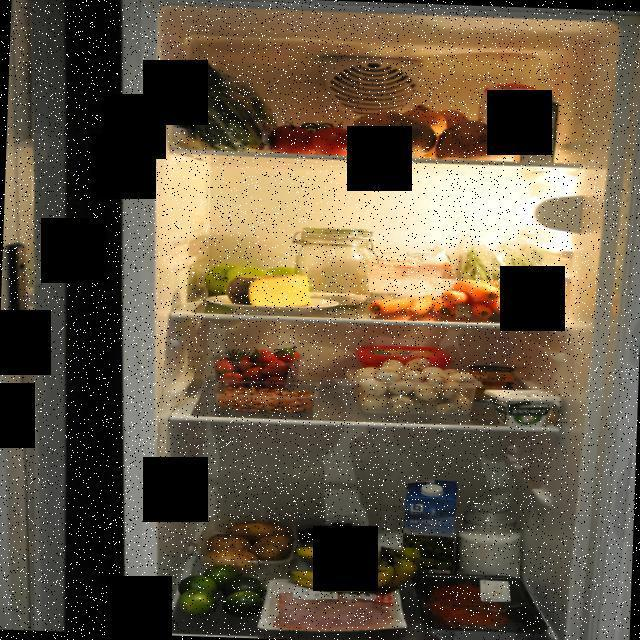apple: (204, 263, 308, 301)
banana: (292, 532, 417, 595)
beef: (422, 578, 524, 629)
blueberries: (298, 514, 368, 554)
butter: (349, 341, 452, 375)
carrot: (436, 276, 522, 324), (368, 292, 438, 319)
cheese: (226, 268, 318, 310)
corn: (466, 363, 516, 402)
flour: (288, 223, 377, 310), (367, 242, 466, 309)
goat_cheese: (483, 387, 563, 428)
green_beans: (442, 230, 556, 322)
ham: (271, 582, 399, 632)
heavy_cream: (514, 91, 562, 165)
lime: (176, 564, 266, 620)
milk: (398, 478, 462, 588)
mushrooms: (346, 354, 484, 418)
onion: (396, 102, 471, 138)
potato: (197, 510, 305, 574)
shrimp: (217, 389, 315, 414)
spinach: (164, 40, 284, 156)
strawberries: (212, 343, 296, 385)
sugar: (476, 80, 544, 161), (458, 502, 524, 582)
sweet_potato: (344, 110, 514, 166)
tomato: (264, 119, 365, 156)
